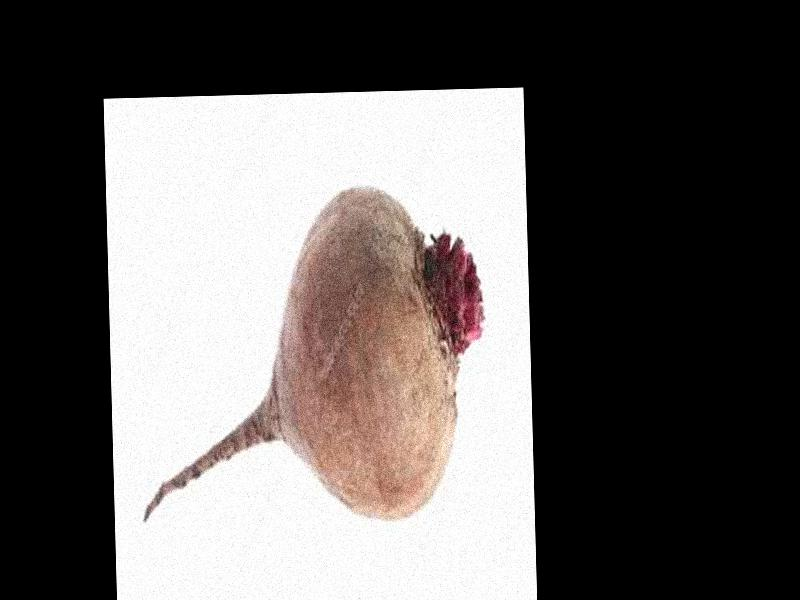Beet: (134, 177, 487, 527)
